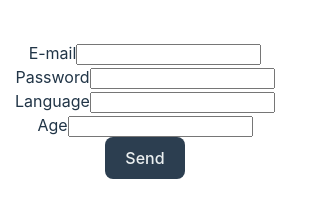
RegistrationFormHookForm validation checks › should validate form
The width and height of the screenshot is (320, 224).
Type "aaa" into the field labelled "E-mail" at (169, 55), box [76,44,261,65]
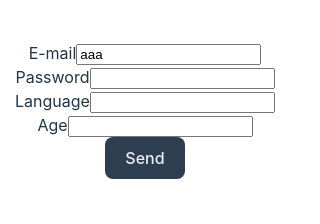
Type "bbb" into the password field labelled "Password" at (182, 79), box [90,68,274,89]
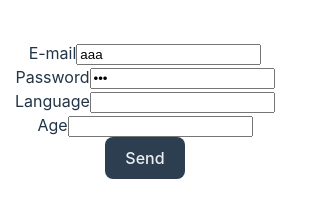
Type "ccc" into the field labelled "Language" at (182, 103), box [90,92,275,113]
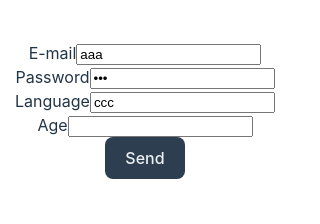
Type "19" into the number field labelled "Age" at (160, 127), box [68,116,253,137]
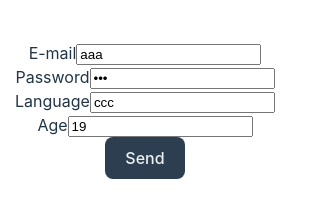
Click the button at (145, 158), box [105,137,185,179]
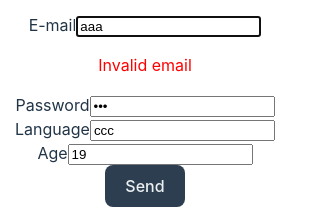
Now the text "Invalid email" is shown, box [98,55,192,75]
